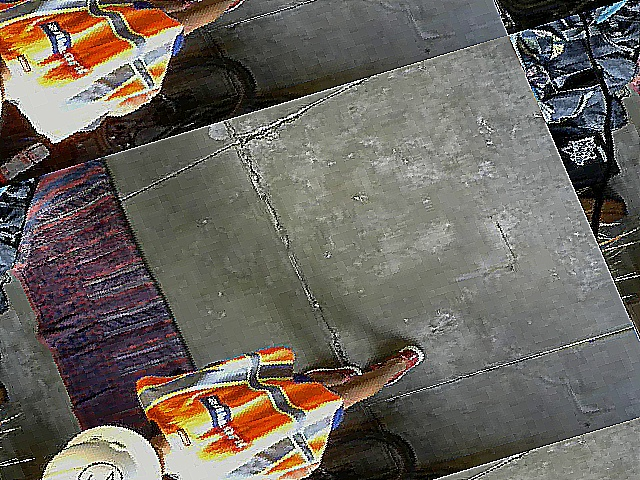two: (69, 456, 128, 479)
